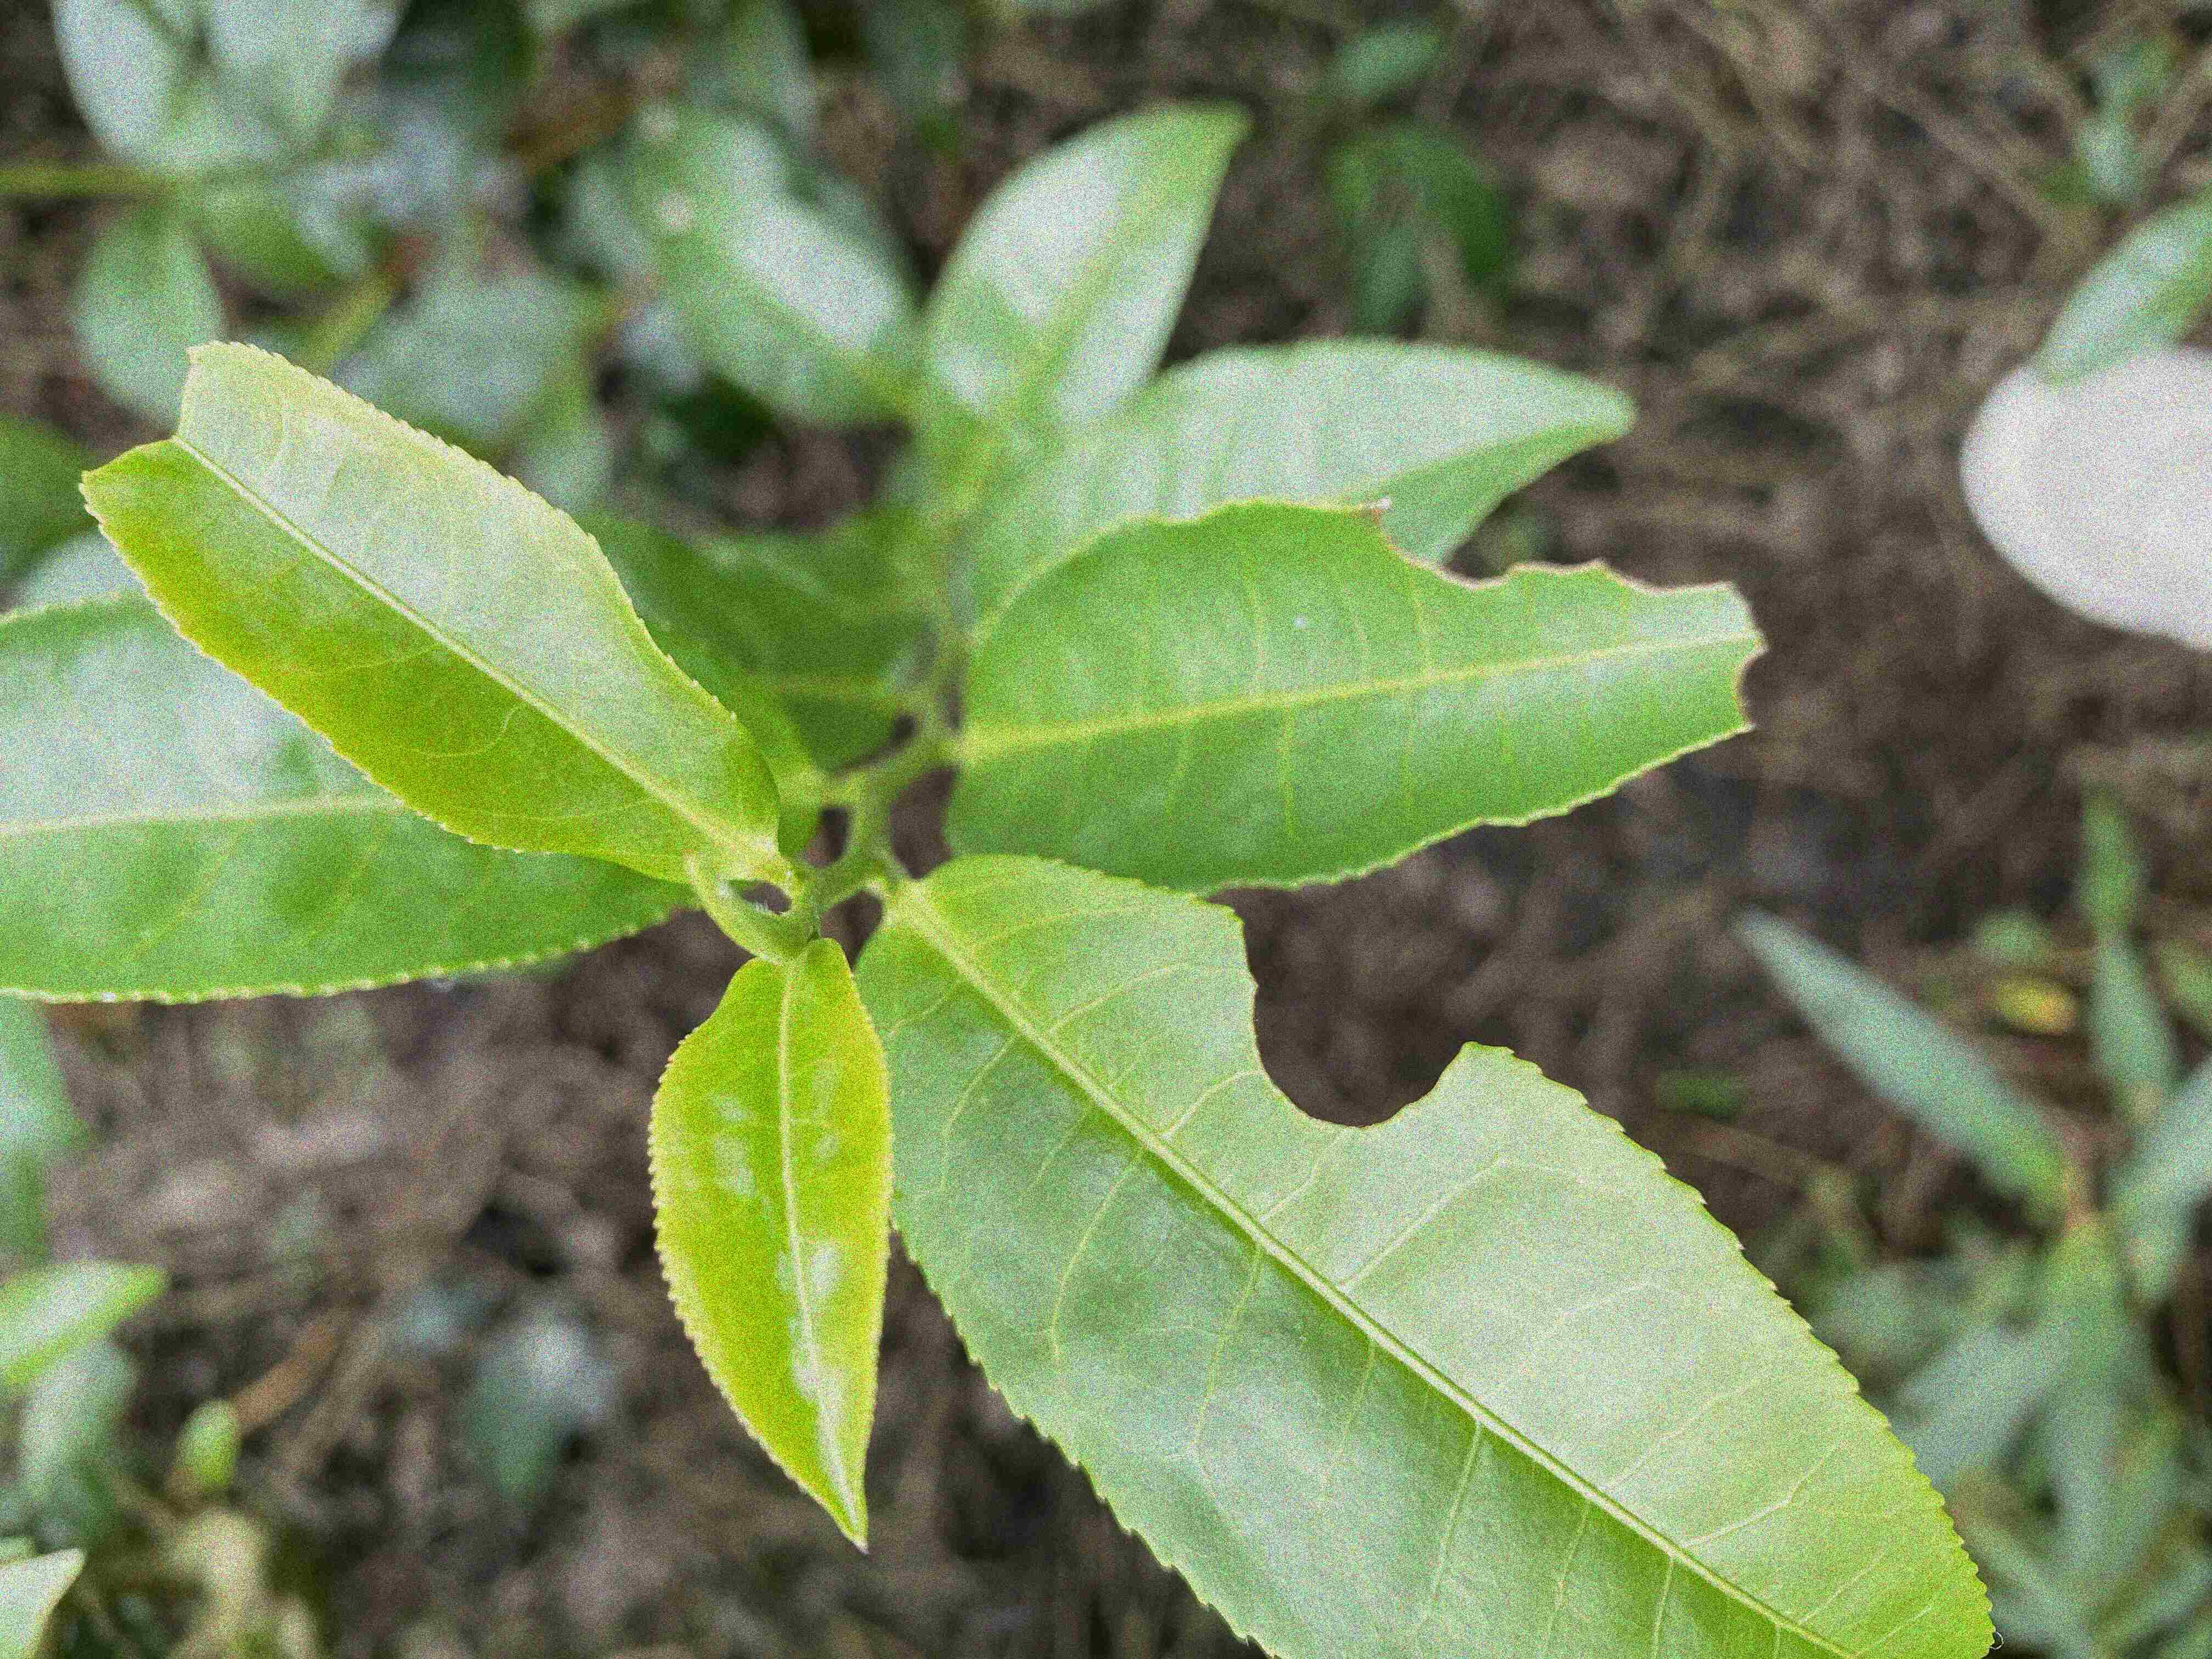chihuo_high: (944, 493, 1771, 894)
chihuo_low: (852, 852, 2006, 1656), (77, 342, 786, 885)
healthy: (641, 941, 895, 1553)
